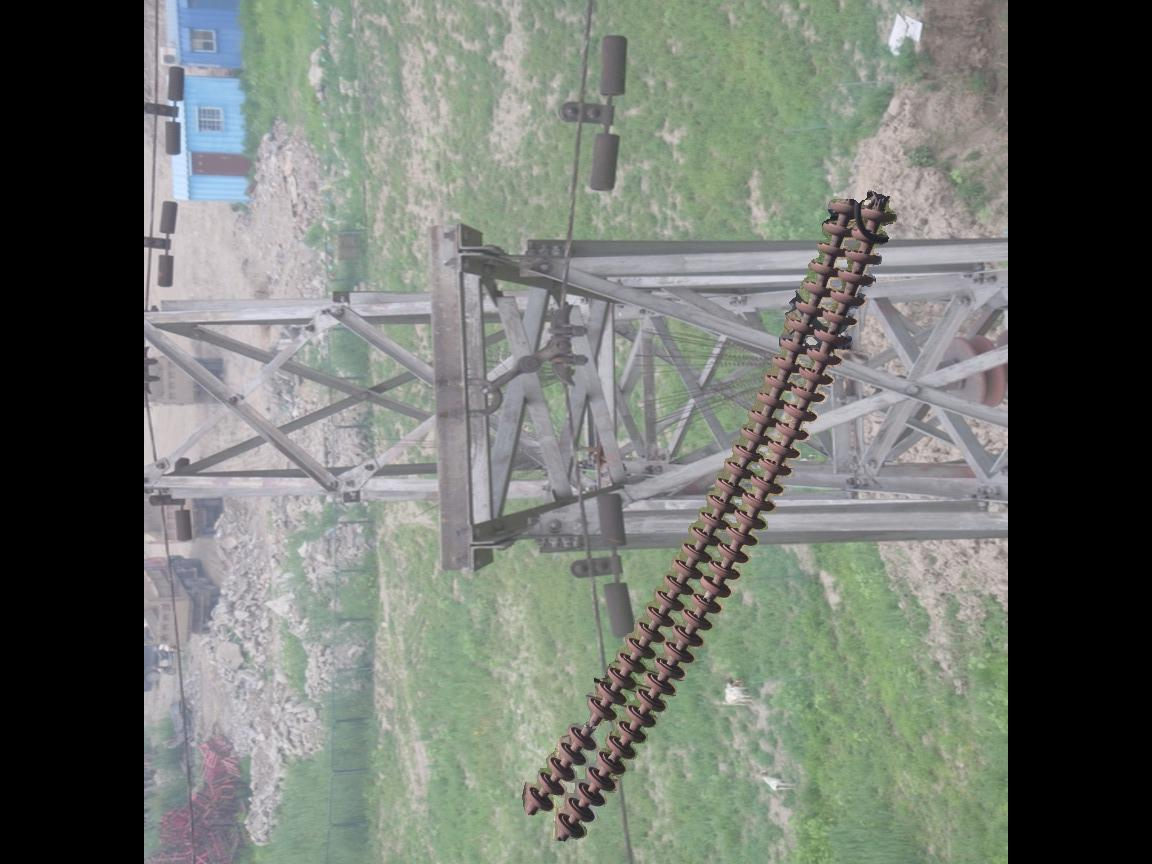insulator: (518, 191, 902, 851)
insulator_stringdrop: (564, 691, 619, 755)
